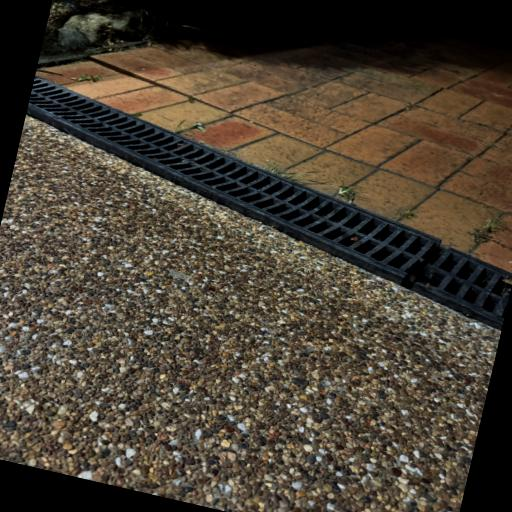gutter: (26, 77, 512, 330)
